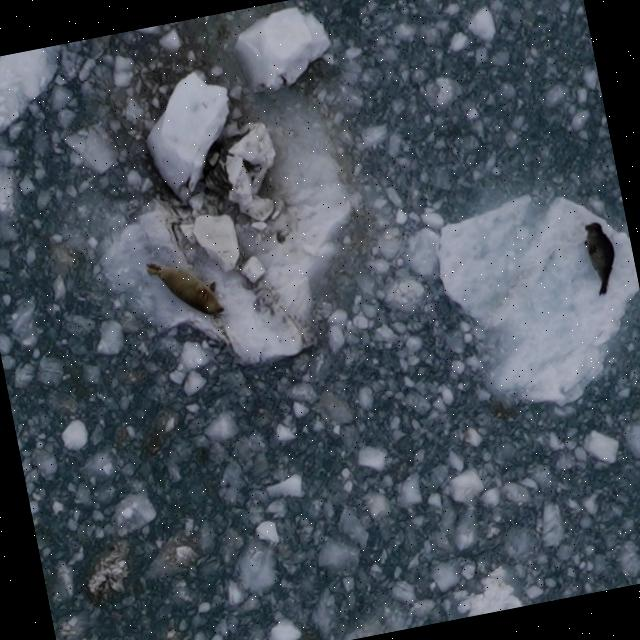seal: (138, 245, 229, 333), (575, 217, 625, 300)
